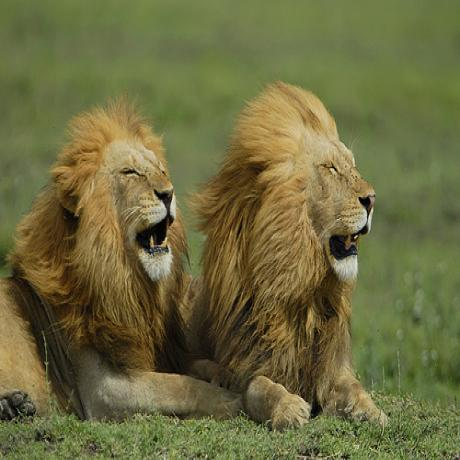Lion: (186, 82, 378, 436), (0, 100, 199, 426)
